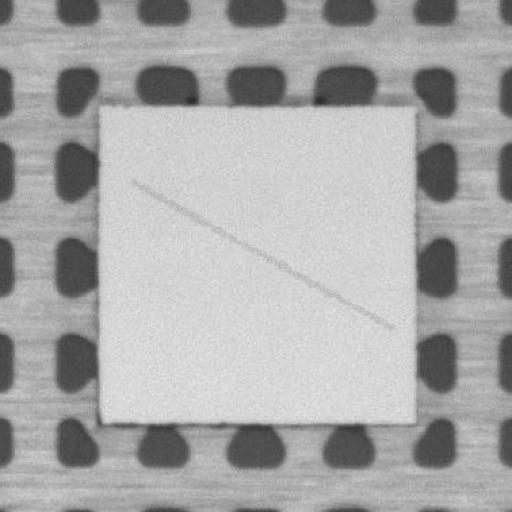DIE_CRACK: (131, 181, 390, 328)
